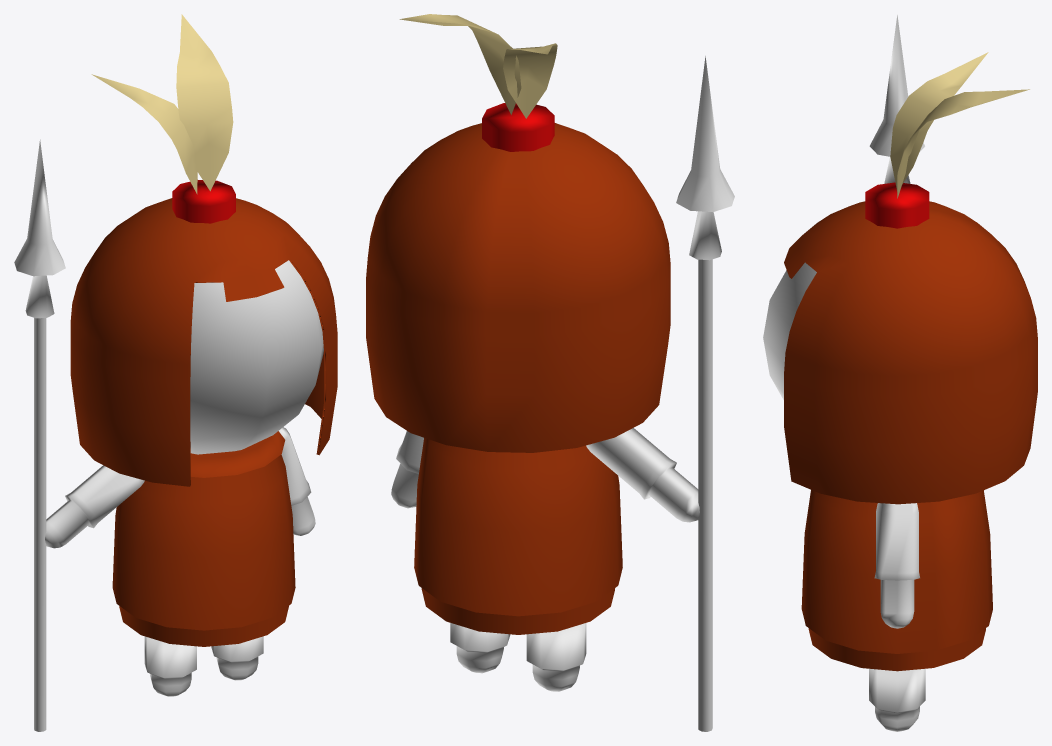
Rendered from M_Soldier_Red_withUV.fbx.
3 views of the same model, side by side, from view 1: azimuth 30°, elevation 25°; view 2: azimuth 150°, elevation 25°; view 3: azimuth 270°, elevation 25° (orthographic). The views are drawn at different scales.
Visible parts, largest first — view 1: M_Soldier; view 2: M_Soldier; view 3: M_Soldier.
Part boxes in pixels (left/top/right/bottom): M_Soldier: left=14, top=14, right=337, bottom=731; M_Soldier: left=366, top=14, right=734, bottom=731; M_Soldier: left=763, top=15, right=1037, bottom=731.
Size of the model in its own units: 54.61 by 106 by 40.92.
